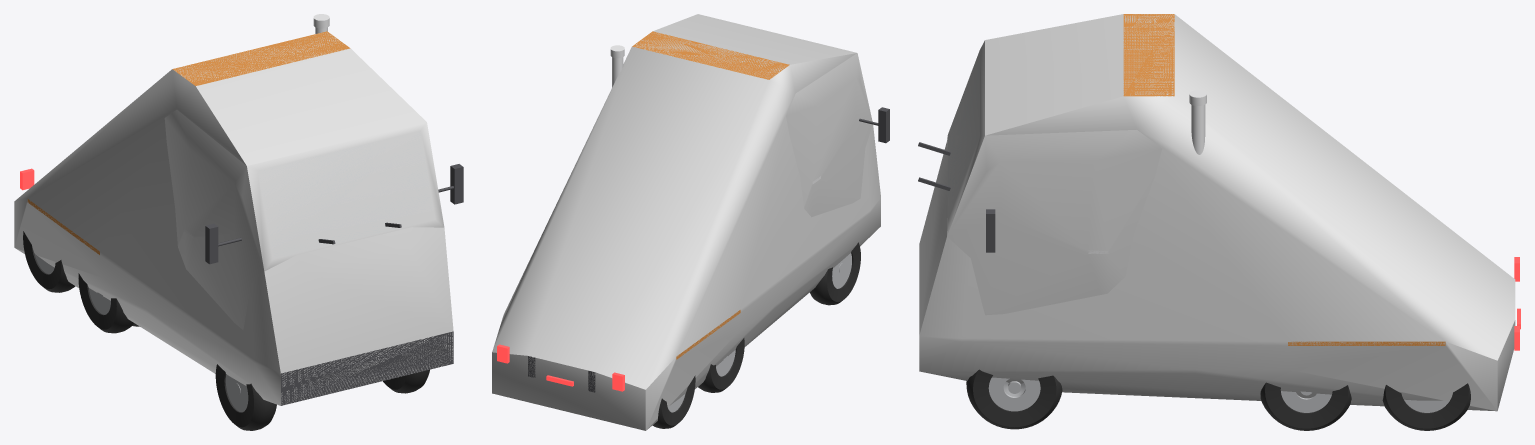
The model's file is ARO-TITAN-480.glb.
3 views of the same model, side by side, from view 1: azimuth 30°, elevation 25°; view 2: azimuth 150°, elevation 25°; view 3: azimuth 270°, elevation 25° (orthographic). The views are drawn at different scales.
Visible parts, largest first — view 1: COL_Body, COL_Cabin, Bumper_Front_LOD0, Roof_Deflector_LOD0, Tire_F_R_LOD0, Tire_R1_RO_LOD0, Tire_R2_RO_LOD0, Tire_F_L_LOD0, Mirror_R_LOD0, Wheel_F_R_LOD0, Mirror_L_LOD0; view 2: COL_Body, COL_Cabin, Roof_Deflector_LOD0, Tire_F_R_LOD0, Tire_R1_RO_LOD0, Tire_R2_RO_LOD0, Mirror_R_LOD0, Wheel_F_R_LOD0, Exhaust_Stack_LOD0; view 3: COL_Body, COL_Cabin, Roof_Deflector_LOD0, Tire_F_L_LOD0, Tire_R1_LO_LOD0, Tire_R2_LO_LOD0, Wheel_F_L_LOD0, Exhaust_Stack_LOD0, Fender_L_LOD0, Wheel_R1_LO_LOD0.
Part boxes in pixels (x1,y1,x2,y2): COL_Body: (14, 33, 453, 405); COL_Cabin: (164, 110, 444, 329); Bumper_Front_LOD0: (281, 331, 453, 405); Roof_Deflector_LOD0: (172, 31, 350, 85); Tire_F_R_LOD0: (215, 364, 276, 430); Tire_R1_RO_LOD0: (78, 273, 133, 333); Tire_R2_RO_LOD0: (23, 231, 75, 292); Tire_F_L_LOD0: (383, 369, 429, 393); Mirror_R_LOD0: (205, 223, 241, 264); Wheel_F_R_LOD0: (225, 374, 248, 412); Mirror_L_LOD0: (438, 164, 463, 204); COL_Body: (492, 14, 880, 430); COL_Cabin: (786, 53, 872, 217); Roof_Deflector_LOD0: (632, 31, 789, 79); Tire_F_R_LOD0: (810, 242, 860, 305); Tire_R1_RO_LOD0: (698, 338, 744, 392); Tire_R2_RO_LOD0: (652, 375, 695, 428); Mirror_R_LOD0: (859, 107, 889, 143); Wheel_F_R_LOD0: (832, 253, 851, 288); Exhaust_Stack_LOD0: (610, 45, 624, 87); COL_Body: (919, 14, 1515, 411); COL_Cabin: (947, 40, 1162, 315); Roof_Deflector_LOD0: (1123, 14, 1174, 96); Tire_F_L_LOD0: (966, 369, 1062, 429); Tire_R1_LO_LOD0: (1260, 382, 1351, 430); Tire_R2_LO_LOD0: (1382, 383, 1470, 430); Wheel_F_L_LOD0: (988, 377, 1040, 411); Exhaust_Stack_LOD0: (1189, 90, 1206, 154); Fender_L_LOD0: (1288, 341, 1445, 345); Wheel_R1_LO_LOD0: (1281, 391, 1331, 412).
Size of what is drawn, in the model's own units: 3.44 by 4 by 6.5.
